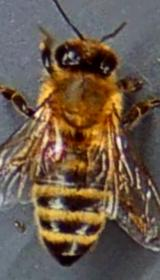varroa_mite: (40, 138, 68, 166)
